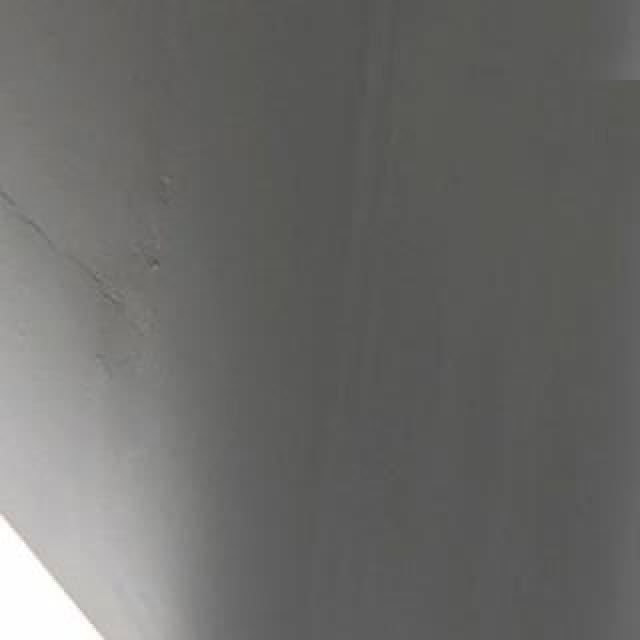fluorescent tube: (0, 300, 272, 640)
